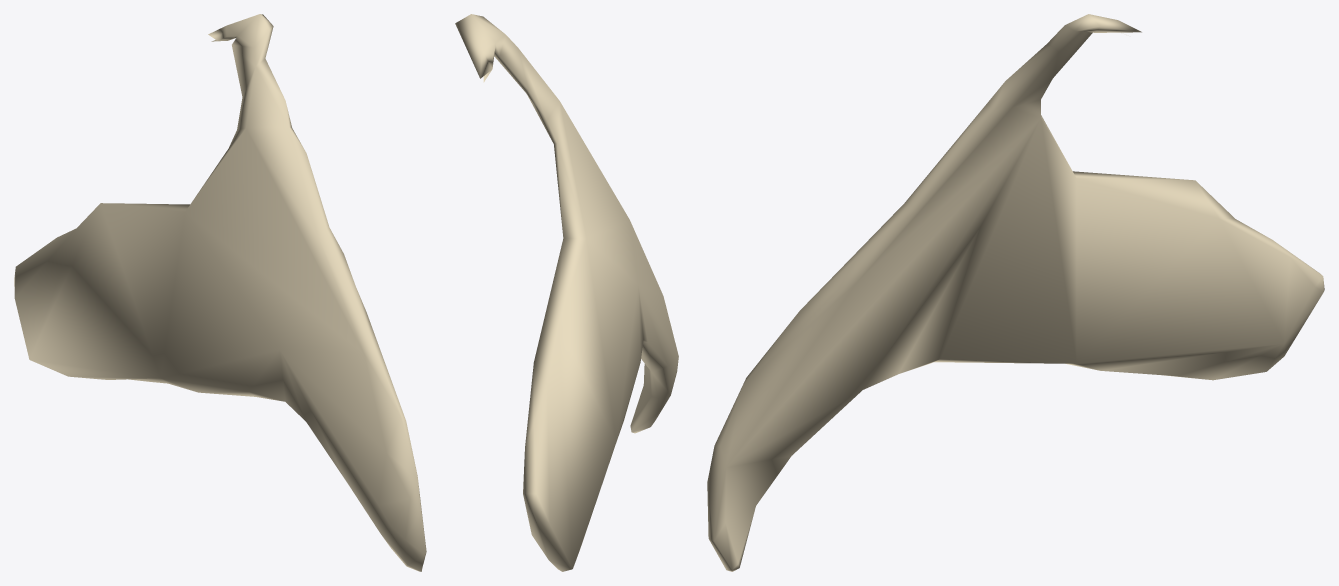
Rendered from esqueleto-lateral-process-of-nasal-septal-cartilage-r.glb.
3 renders of one model, left to right at view 1: azimuth 30°, elevation 25°; view 2: azimuth 150°, elevation 25°; view 3: azimuth 270°, elevation 25°, orthographic. The views are drawn at different scales.
Visible parts, largest first — view 1: Lateral process of nasal septal cartilage.r; view 2: Lateral process of nasal septal cartilage.r; view 3: Lateral process of nasal septal cartilage.r.
Part boxes in pixels (x1=…): Lateral process of nasal septal cartilage.r: x1=14, y1=14, x2=426, y2=571; Lateral process of nasal septal cartilage.r: x1=455, y1=14, x2=678, y2=571; Lateral process of nasal septal cartilage.r: x1=707, y1=14, x2=1324, y2=571.
Bounding box in the file's own units: 0.0131 × 0.033 × 0.0335.
